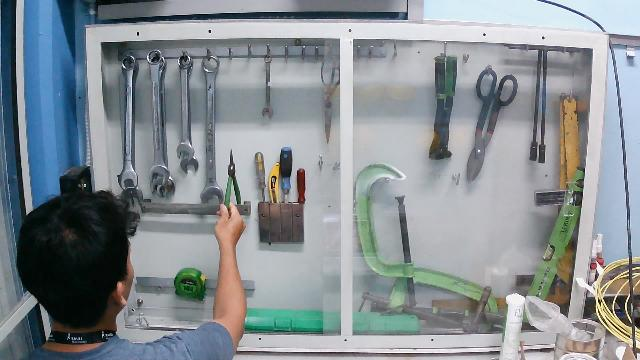tang_cucut_lancip_2: (215, 145, 249, 237)
